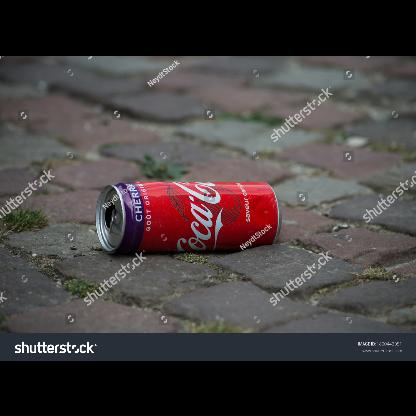Dent_Can: (247, 197, 274, 230)
Lid_Open: (98, 198, 124, 238)
Tin_Can: (90, 178, 284, 258)
